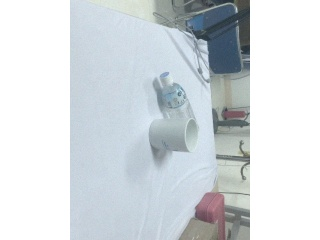bottle: (159, 72, 196, 121)
box: (171, 218, 218, 240)
cup: (149, 118, 199, 153)
